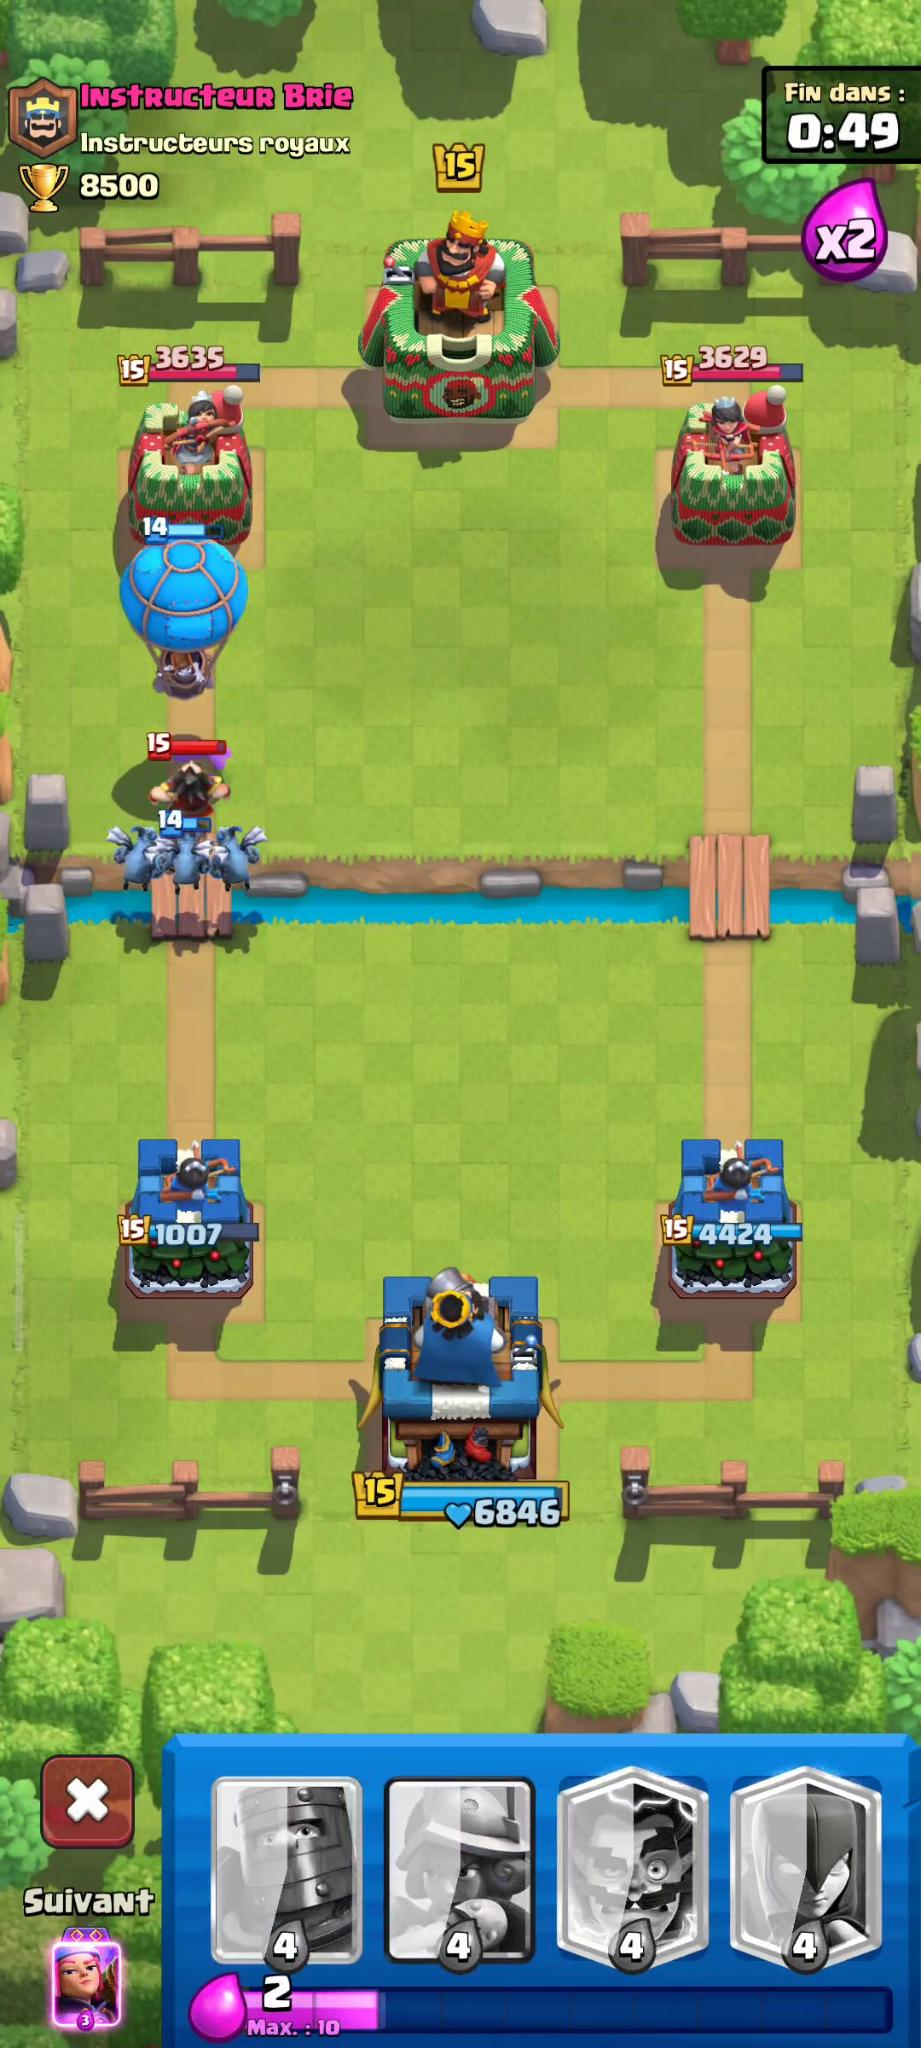gargouille: (155, 819, 219, 893), (108, 832, 159, 900), (217, 831, 268, 896)
